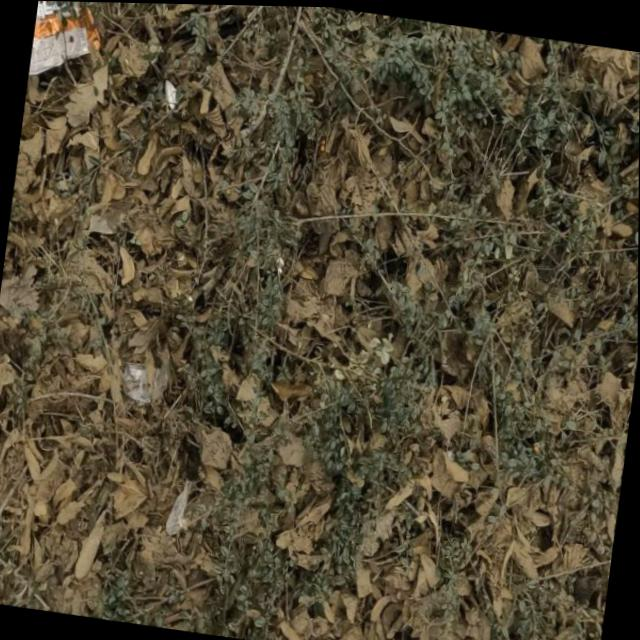Plastic: (28, 0, 106, 84), (120, 357, 160, 407)
